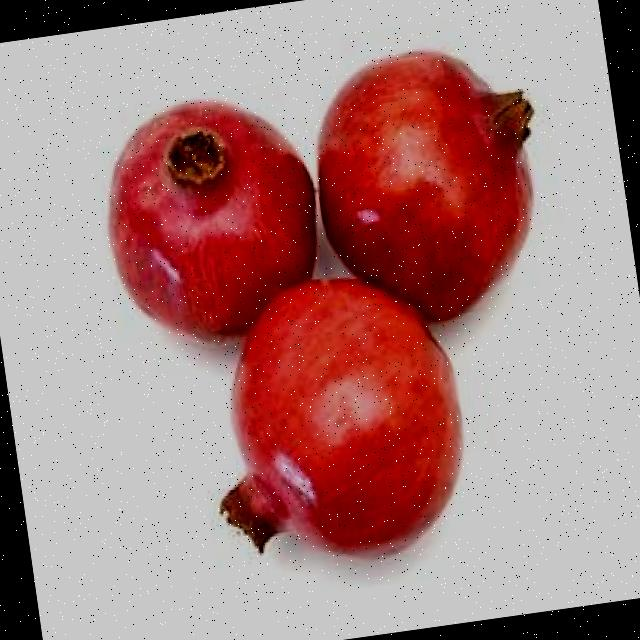Pomegranate: (187, 261, 482, 582), (296, 29, 560, 338), (88, 80, 331, 356)
